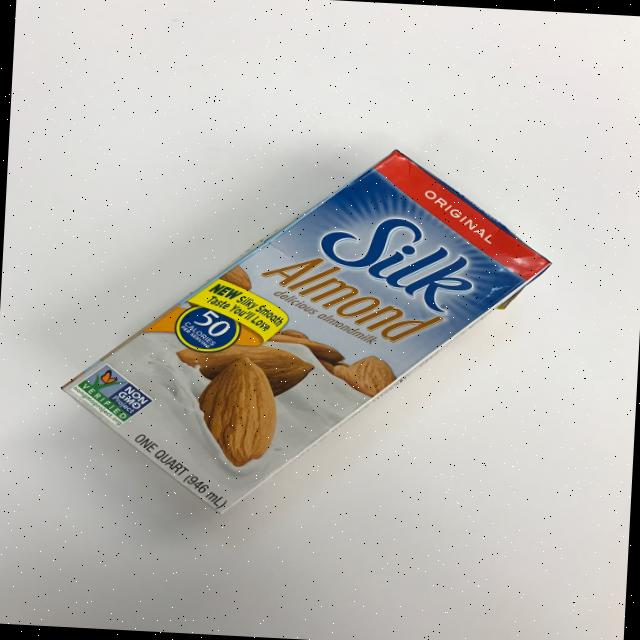paper: (54, 132, 558, 531)
